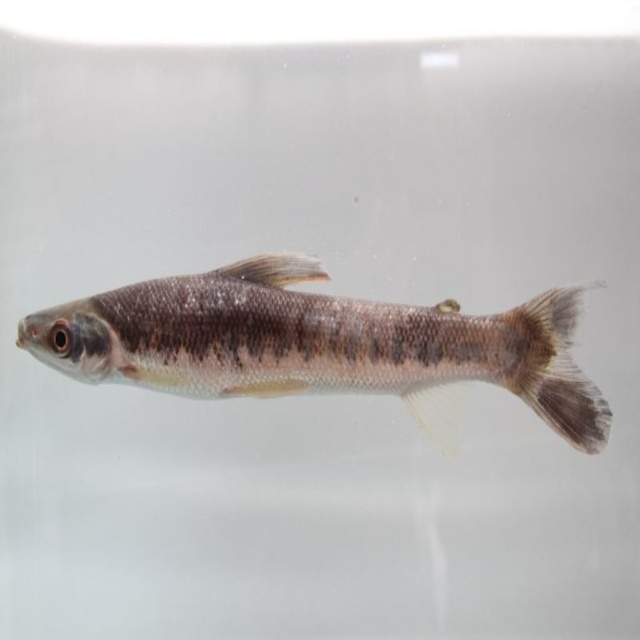Fish: (16, 244, 606, 455)
